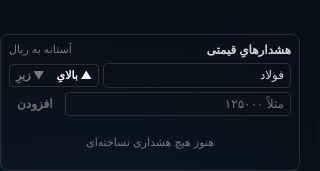
Test: پنلِ هشدار › ورودیِ بی‌عدد افزودن را جلو می‌گیرد و هیچ هشدارِ ساختگی ساخته نمی‌شود
(page scrolled)
In the field with test id "alert-price": (178, 104) [65, 92, 291, 116], type "abc"
(page scrolled)
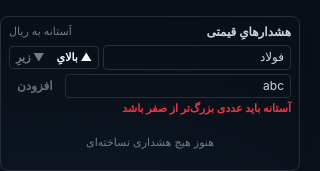
Expected: the text "هنوز هیچ هشداری نساخته‌ای" is shown, [86, 135, 214, 149]
Expected: the text with test id "alert-error" shows "بزرگ‌تر از صفر", [122, 101, 291, 115]
